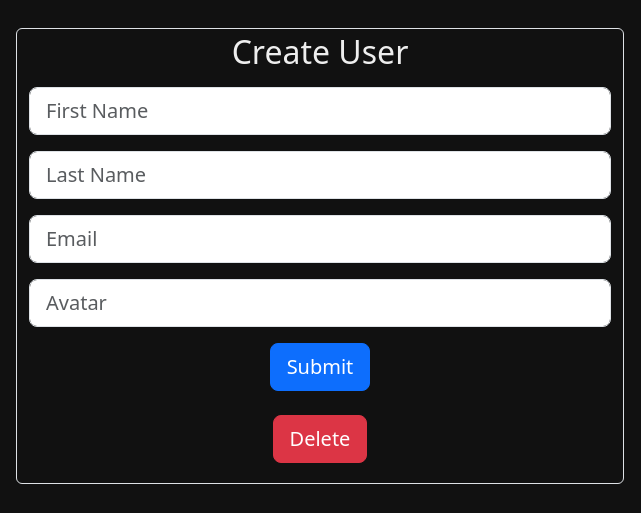
Scenario: MyUserPage › UserPage, handleDelete, deleteUser with correct userId
Click the button "Delete".
click(320, 439)  # box [273, 415, 367, 463]
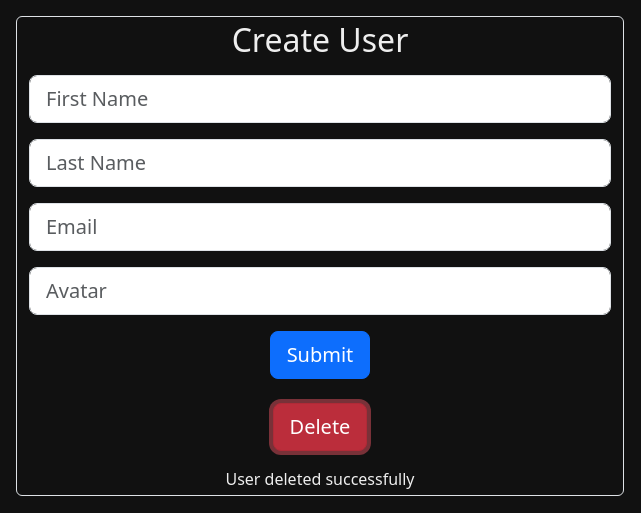
Check: the text "User deleted successfully" is shown, box [226, 468, 414, 490]
